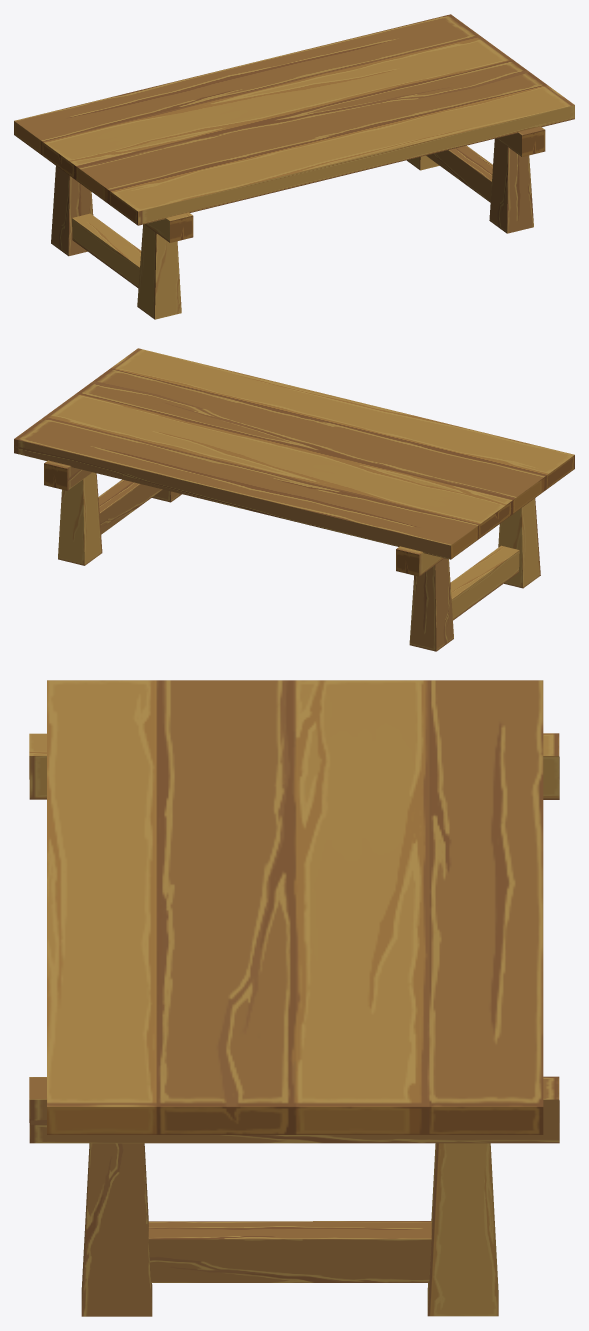
Rendered from Wooden_Table.fbx.
The picture shows the model from 3 angles, top to bottom: view 1: azimuth 30°, elevation 25°; view 2: azimuth 150°, elevation 25°; view 3: azimuth 270°, elevation 25°; orthographic projection. The views are drawn at different scales.
Parts seen in each view (by area): view 1: Wooden_Table; view 2: Wooden_Table; view 3: Wooden_Table.
Part boxes in pixels (x1=…): Wooden_Table: x1=14, y1=14, x2=574, y2=319; Wooden_Table: x1=14, y1=348, x2=574, y2=651; Wooden_Table: x1=29, y1=680, x2=559, y2=1316.
Size of the model in its own units: 69.48 by 18.33 by 36.5.
